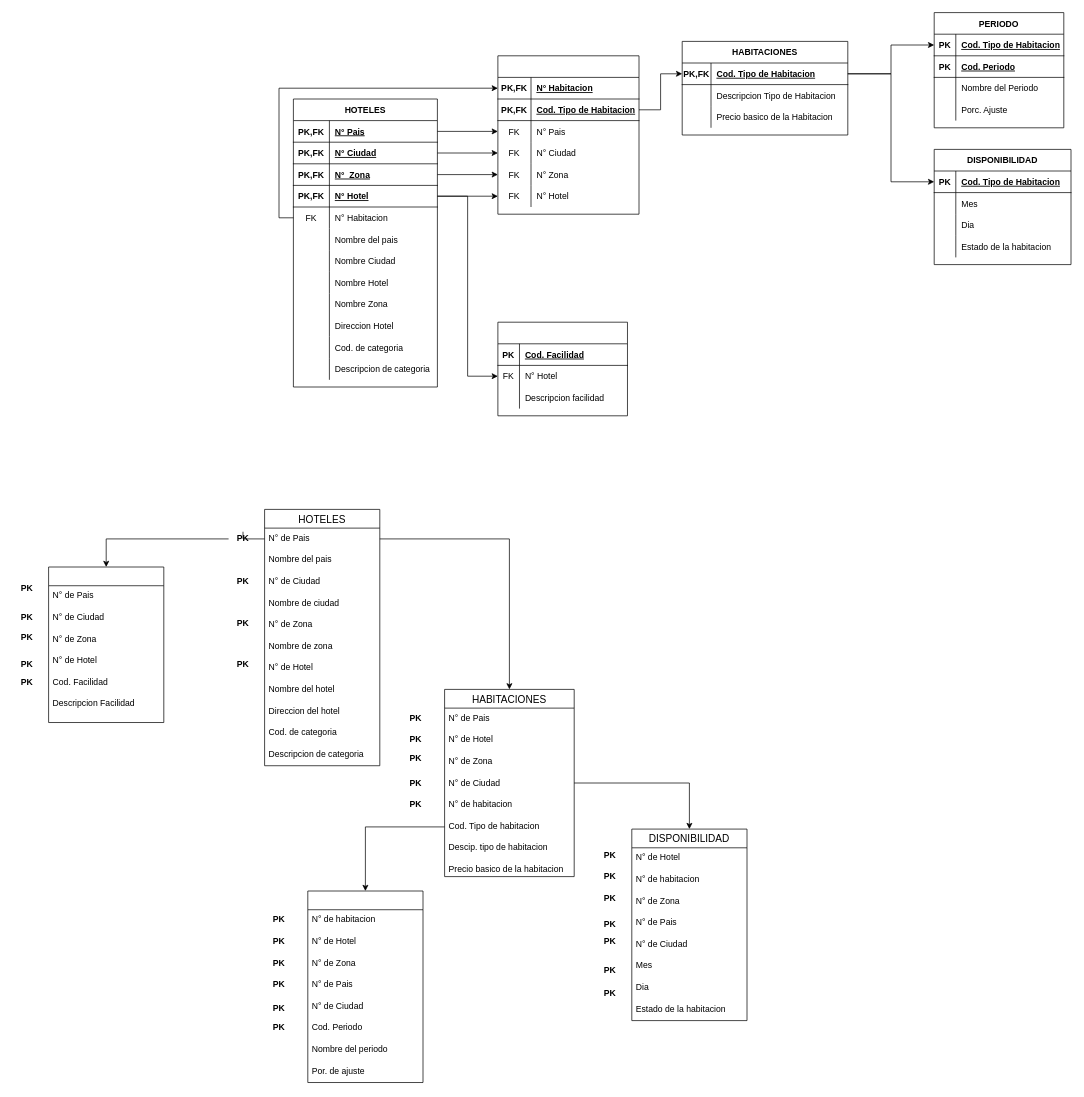
Image size: 1084x1097. Some labels were removed from this diagram. Each missing label, with the box of its shape:
DIFERENCIAL: (307, 890, 423, 1083)
FACILIDADES: (48, 566, 164, 723)
FACILIDADES HOTEL: (497, 321, 627, 416)
HABITACIONES X HOTEL: (497, 55, 639, 214)
